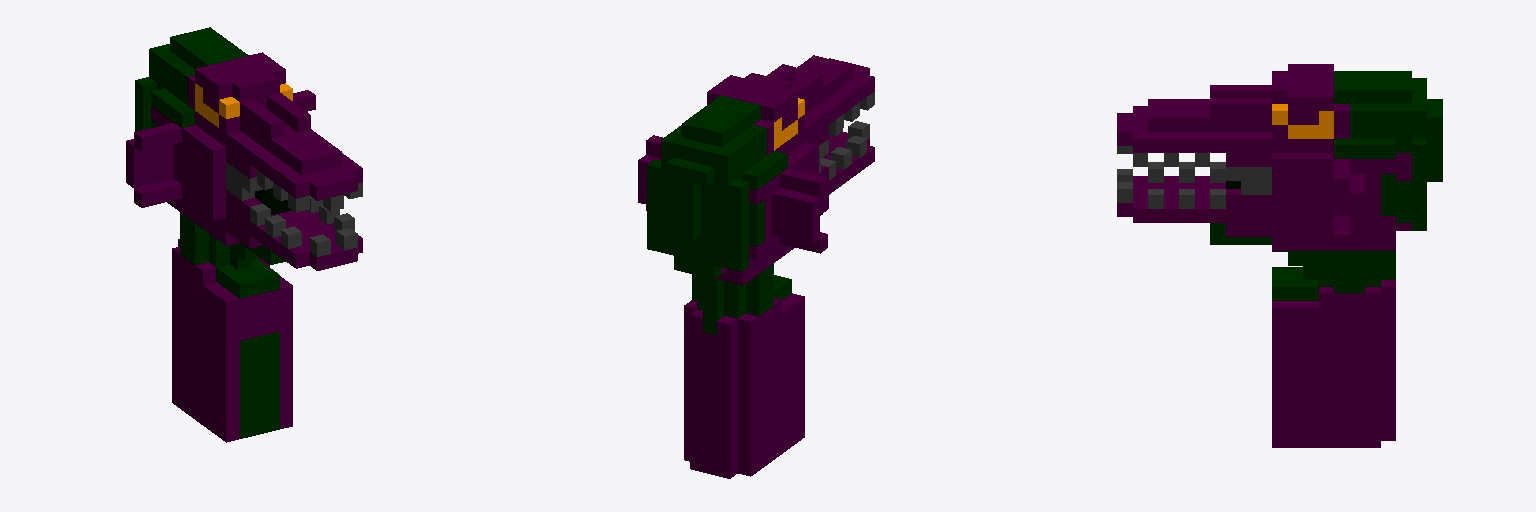
3 renders of one model, left to right at view 1: azimuth 30°, elevation 25°; view 2: azimuth 150°, elevation 25°; view 3: azimuth 270°, elevation 25°, orthographic.
Parts seen in each view (by area): view 1: EnemyHead; view 2: EnemyHead; view 3: EnemyHead.
Part boxes in pixels (bbox=[...]): EnemyHead: bbox=[126, 27, 362, 442]; EnemyHead: bbox=[638, 55, 874, 478]; EnemyHead: bbox=[1117, 64, 1442, 447].
Size of the model in its own units: 13 by 25 by 21.
Materials: 1 (1 with a texture image).